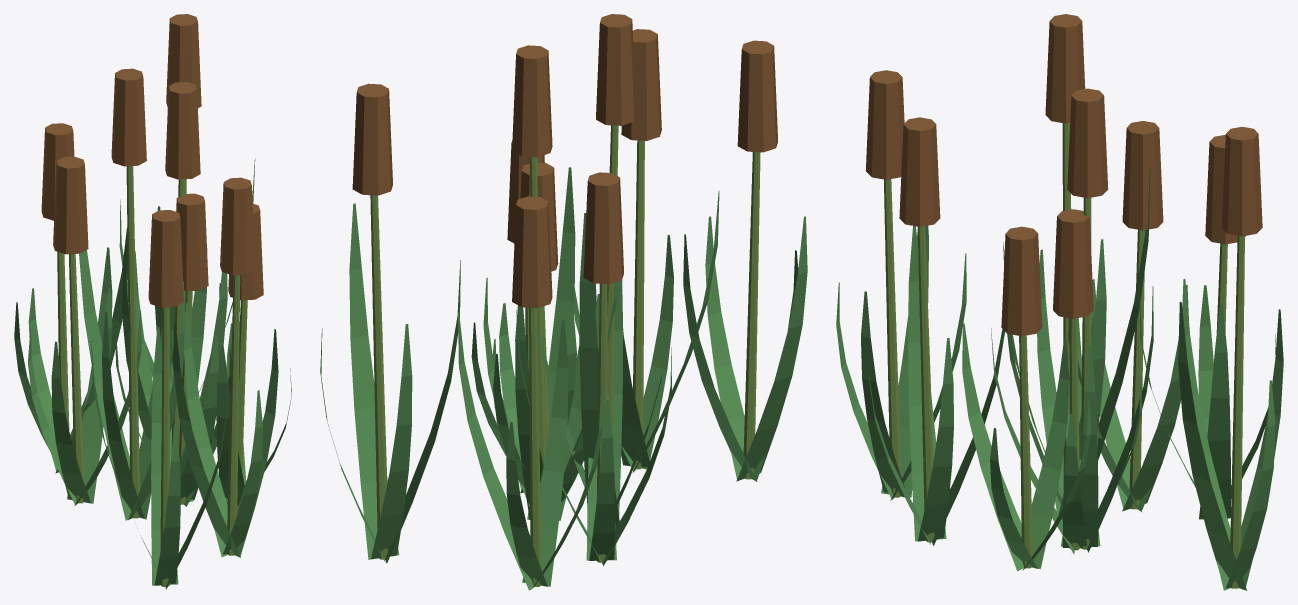
The model's file is cattail_cluster_v1.glb.
3 views of the same model, side by side, from view 1: azimuth 30°, elevation 25°; view 2: azimuth 150°, elevation 25°; view 3: azimuth 270°, elevation 25° (orthographic). The views are drawn at different scales.
Visible parts, largest first — view 1: CattailLeaves, CattailHeads, CattailStems; view 2: CattailLeaves, CattailHeads, CattailStems; view 3: CattailLeaves, CattailHeads, CattailStems.
Part boxes in pixels (<box>): CattailLeaves: <box>14,159,291,589</box>; CattailHeads: <box>41,14,263,307</box>; CattailStems: <box>57,166,247,586</box>; CattailLeaves: <box>320,167,807,590</box>; CattailHeads: <box>352,14,777,308</box>; CattailStems: <box>370,125,760,586</box>; CattailLeaves: <box>836,168,1283,590</box>; CattailHeads: <box>865,14,1262,336</box>; CattailStems: <box>884,123,1244,588</box>.
Size of the model in its own units: 1.15 by 1.74 by 1.42.
